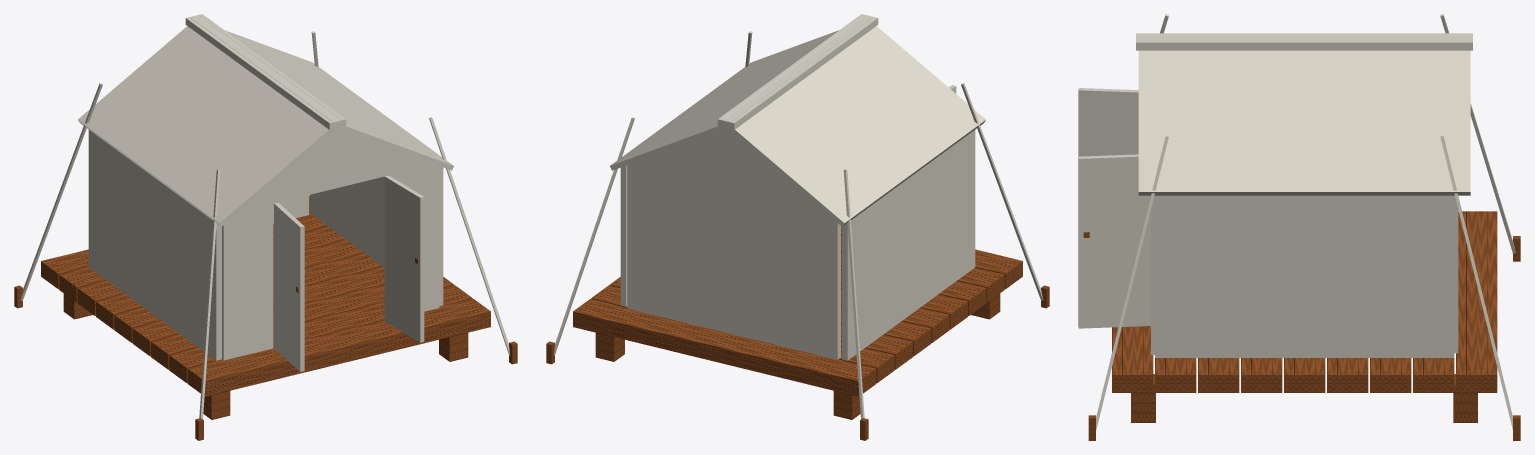
The model's file is safari-camp-and-bush-lodge-safari-tent-small-open-e477d111__37667.glb.
3 views of the same model, side by side, from view 1: azimuth 30°, elevation 25°; view 2: azimuth 150°, elevation 25°; view 3: azimuth 270°, elevation 25° (orthographic). The views are drawn at different scales.
Parts seen in each view (by area): view 1: safari-tent-small-open-canvas, safari-tent-small-open-timber, flap-right, flap-left; view 2: safari-tent-small-open-canvas, safari-tent-small-open-timber; view 3: safari-tent-small-open-canvas, safari-tent-small-open-timber, flap-right, flap-left.
Part boxes in pixels (<box>): safari-tent-small-open-canvas: <box>20,14,510,419</box>; safari-tent-small-open-timber: <box>14,195,517,440</box>; flap-right: <box>384,175,424,342</box>; flap-left: <box>274,202,304,371</box>; safari-tent-small-open-canvas: <box>553,14,1043,419</box>; safari-tent-small-open-timber: <box>546,226,1049,440</box>; safari-tent-small-open-canvas: <box>1096,14,1515,430</box>; safari-tent-small-open-timber: <box>1088,211,1520,440</box>; flap-right: <box>1078,154,1150,328</box>; flap-left: <box>1078,88,1138,156</box>.
Size of the model in its own units: 3.46 by 2.76 by 3.54.
2 materials, 1 textured.
